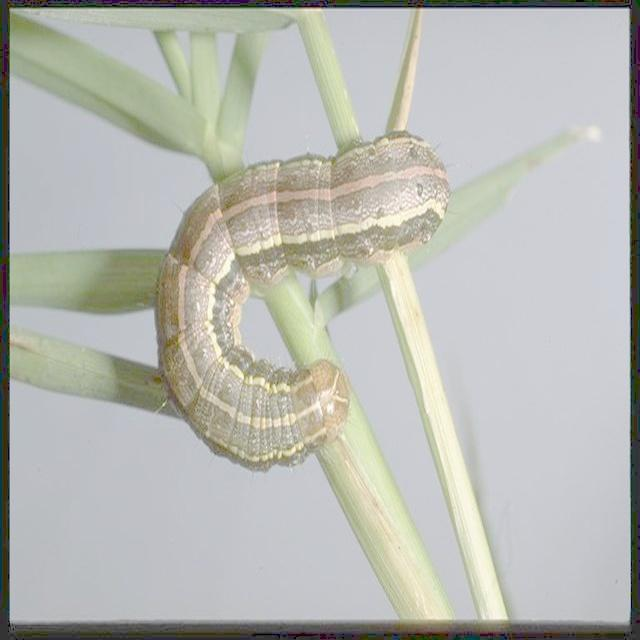gusano_cogollero: (152, 128, 454, 474)
